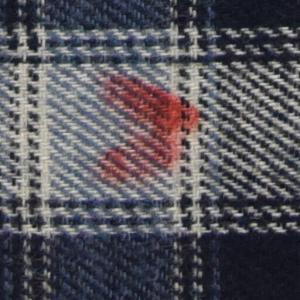Stain: (96, 69, 206, 184)
